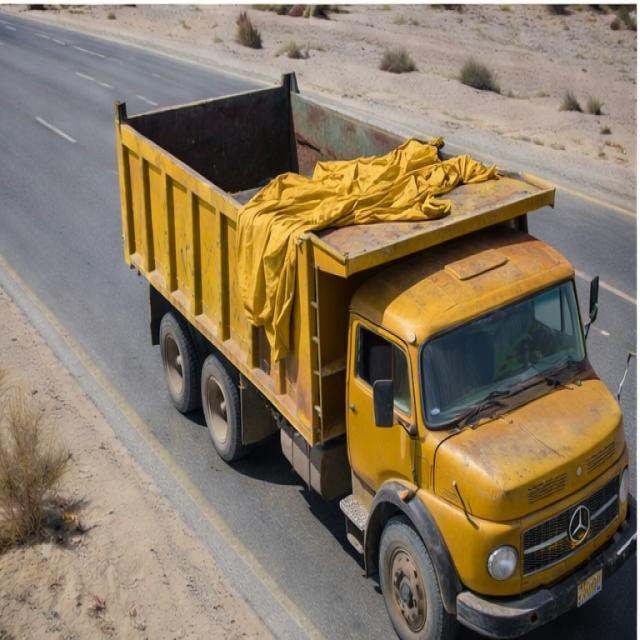Box: (114, 74, 563, 265)
Truck: (100, 61, 640, 636)
